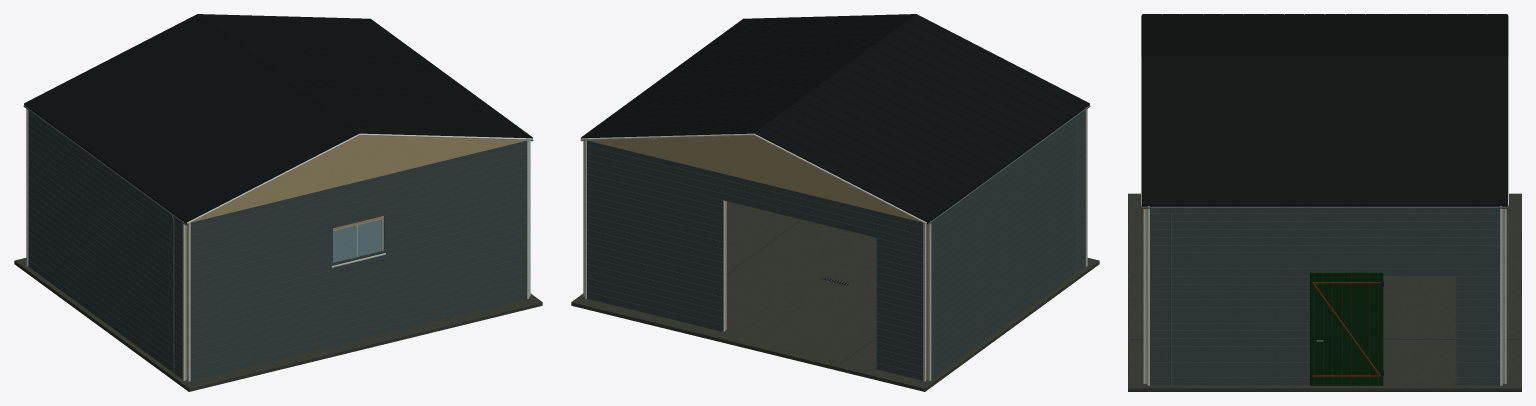
File: Garage.gltf
3 views of the same model, side by side, from view 1: azimuth 30°, elevation 25°; view 2: azimuth 150°, elevation 25°; view 3: azimuth 270°, elevation 25° (orthographic). The views are drawn at different scales.
Visible parts, largest first — view 1: Garage__Body, Garage, Garage__Floor, Garage__Glass_GarageRear, Garage__Roof; view 2: Garage__Body, Garage__Floor, Garage, Garage__Roof; view 3: Garage__Body, Garage__Floor, Garage__Door, Garage__Roof_Right, Garage__Roof, Garage.
Boxes of the visible parts, x1,y1,x2,y2 form: Garage__Body: [23, 14, 533, 381]; Garage: [185, 135, 528, 380]; Garage__Floor: [14, 220, 542, 391]; Garage__Glass_GarageRear: [333, 219, 381, 262]; Garage__Roof: [24, 104, 359, 224]; Garage__Body: [580, 14, 1090, 381]; Garage__Floor: [571, 201, 1099, 391]; Garage: [585, 135, 928, 380]; Garage__Roof: [754, 104, 1089, 224]; Garage__Body: [1130, 14, 1519, 385]; Garage__Floor: [1128, 193, 1521, 391]; Garage__Door: [1310, 272, 1383, 385]; Garage__Roof_Right: [1142, 56, 1507, 206]; Garage__Roof: [1142, 14, 1507, 57]; Garage: [1145, 209, 1504, 383].
Size of the model in its own units: 7.76 by 4.43 by 6.64.
Materials: 2 (1 with a texture image).
